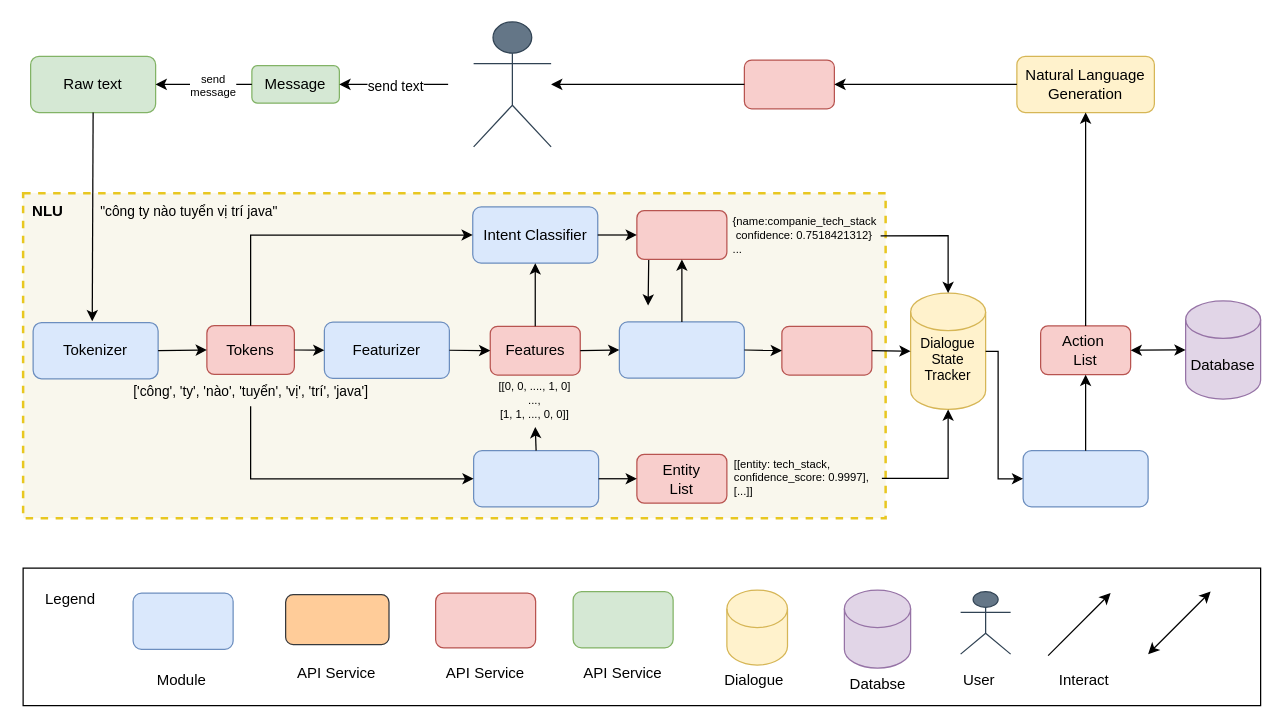
Some shapes in this 1283 by 728 pixel diagram are drawn without their labels. Here are the shapes that lost their labels. From the top down, the centre of each, then its label:
At (788,84): "Bot Utterrance".
At (681,234): "Intent List".
At (681,349): "Selector".
At (826,350): "Selected Response".
At (535,478): "Entity Extractor".
At (1085,478): "Policy".
